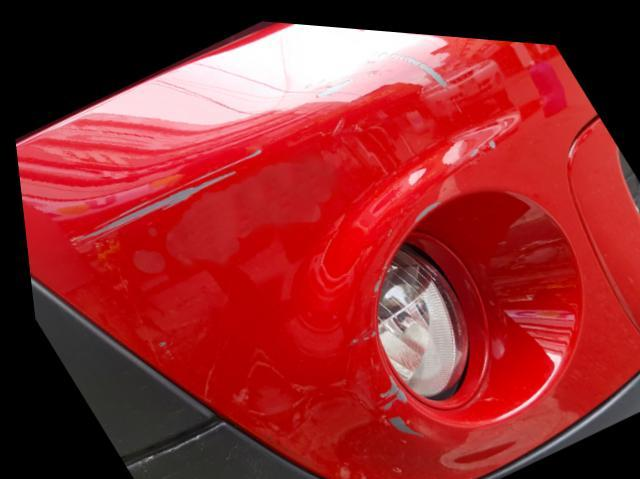dislocated part: (12, 17, 296, 152)
scratch: (48, 38, 459, 252), (372, 364, 413, 436)
